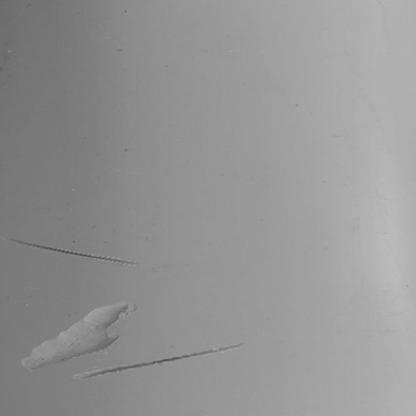sunshang: (21, 304, 138, 370), (75, 340, 245, 382), (5, 237, 138, 264)
